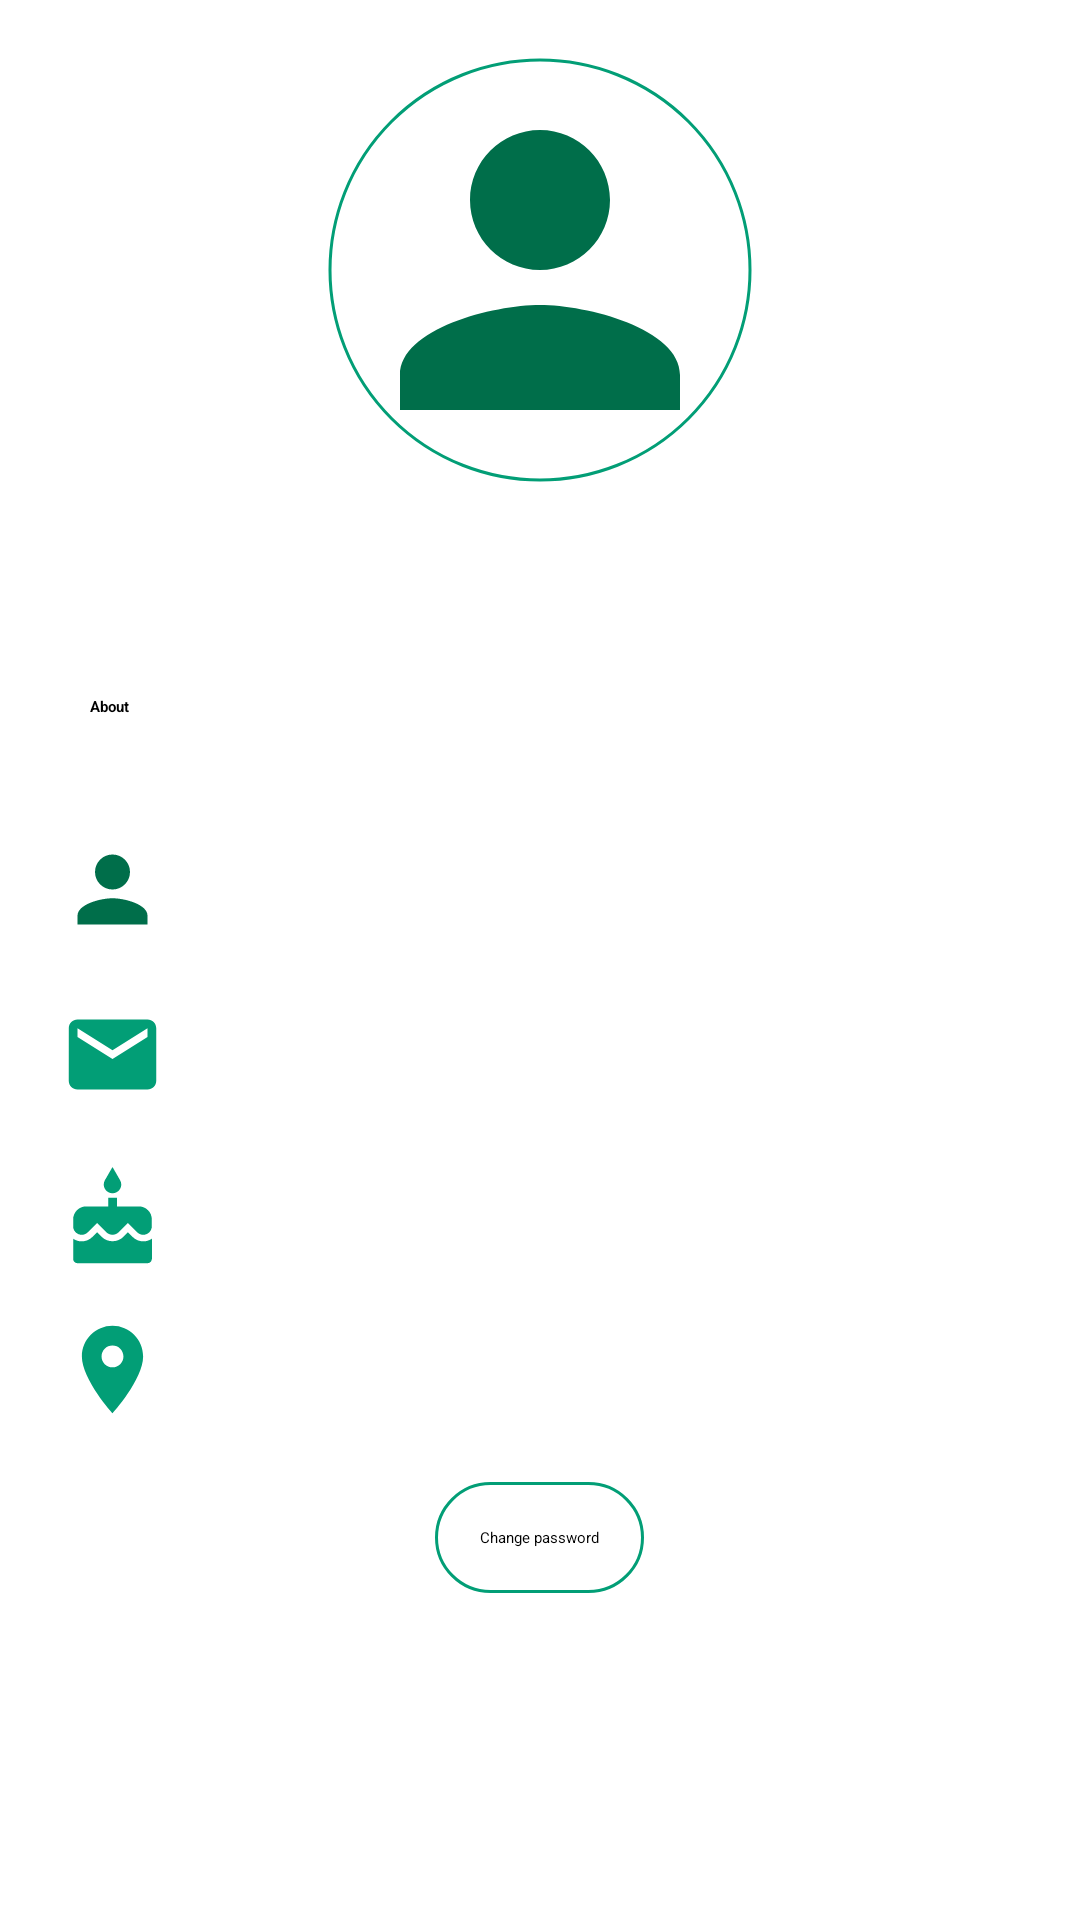

Named icons in this screenshot (1080*1920) and their centers, (x,y):
cake: (112,1215)
email: (112,1054)
location on: (112,1369)
